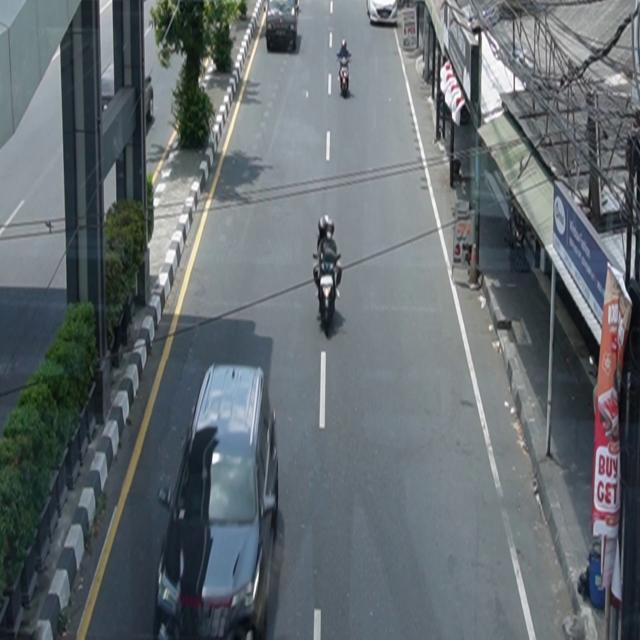car: (156, 362, 280, 640), (266, 1, 300, 53), (367, 1, 398, 26)
